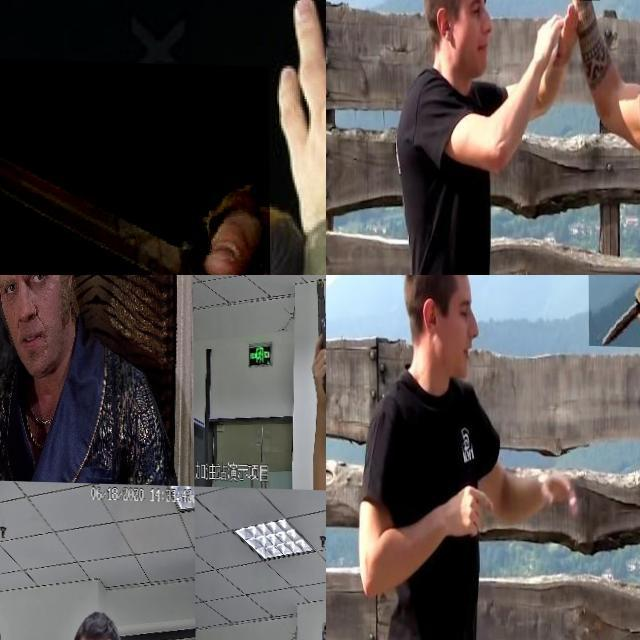-: (0, 55, 270, 275), (517, 0, 599, 46), (588, 275, 640, 345)
gun-knife-thesis - v11 Yolov5 augmented: (0, 283, 28, 431), (311, 275, 326, 389)
